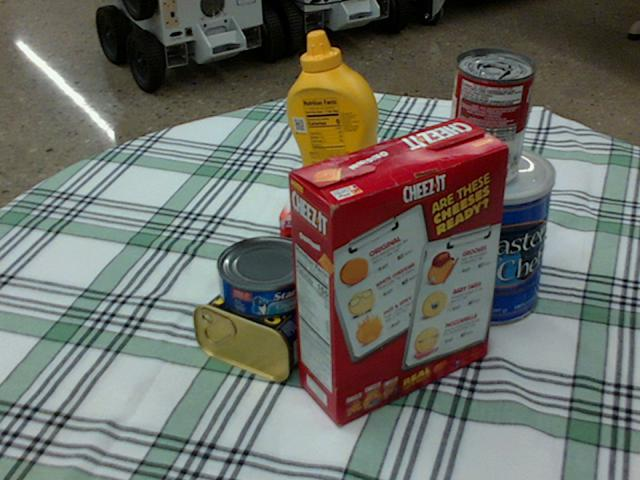cracker_box: (288, 118, 509, 425)
gelatin_box: (278, 178, 359, 244)
master_chef_can: (432, 143, 555, 325)
mug: (299, 212, 412, 330)
mustard_bottle: (285, 31, 393, 219)
potted_meat_can: (195, 265, 337, 380)
sugar_box: (348, 161, 494, 284)
tomato_soup_can: (445, 49, 533, 186)
tuna_fish_can: (217, 235, 314, 318)
